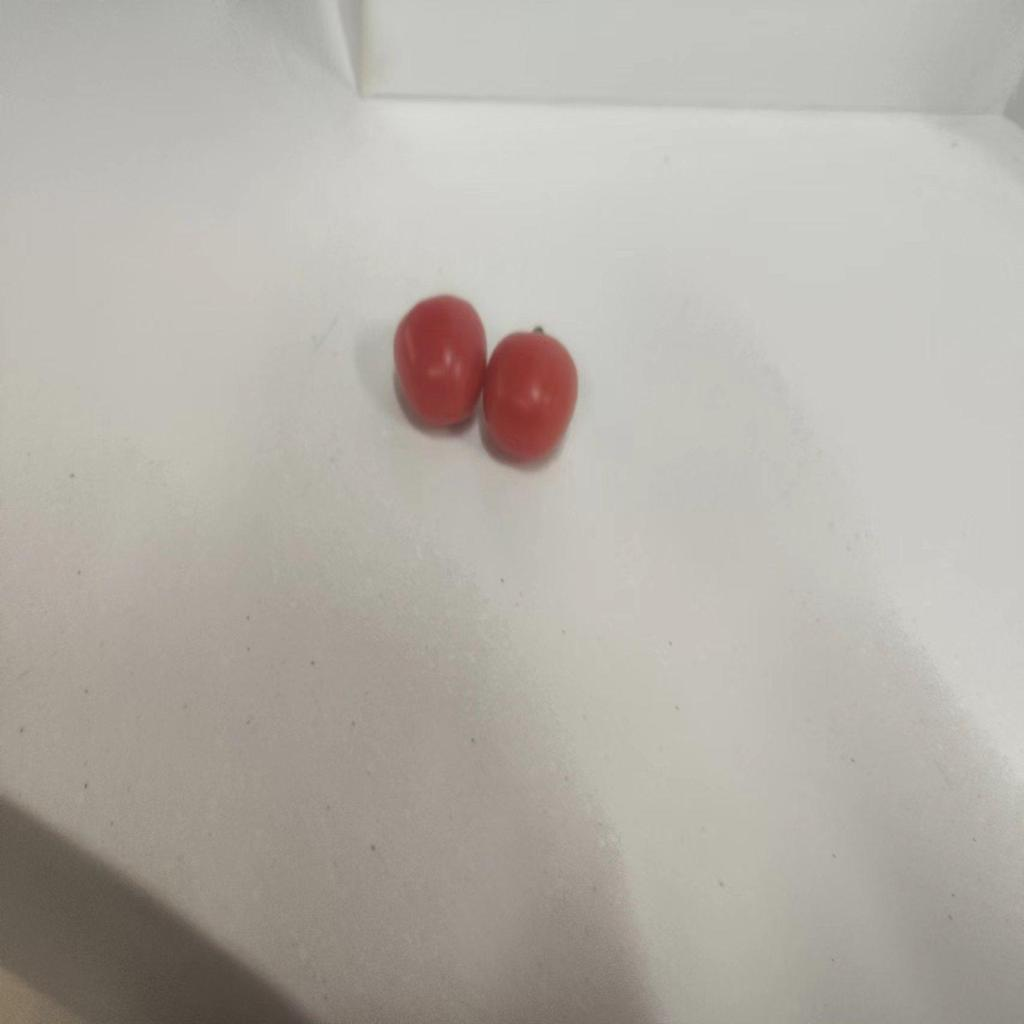tomato: (393, 292, 486, 436), (484, 326, 581, 457)
